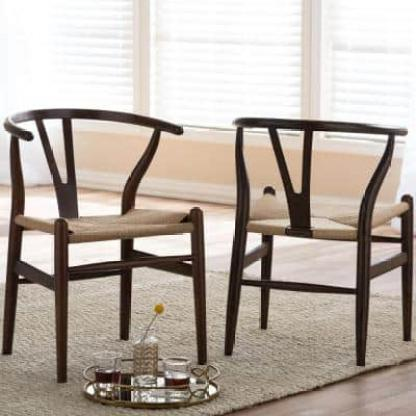chair: (3, 92, 211, 373), (229, 98, 416, 369)
